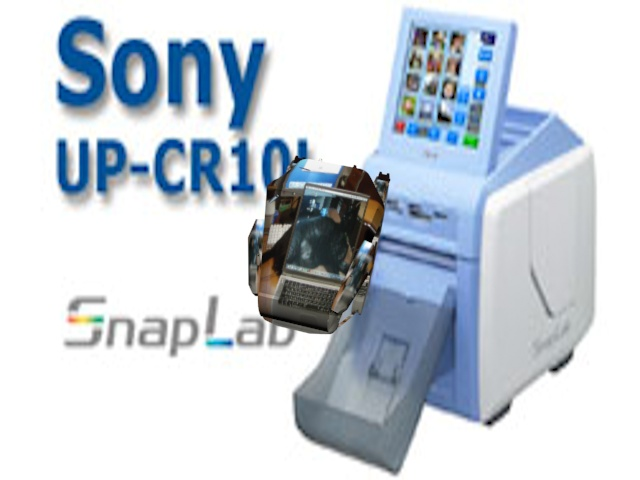back_pack: (241, 145, 401, 337)
